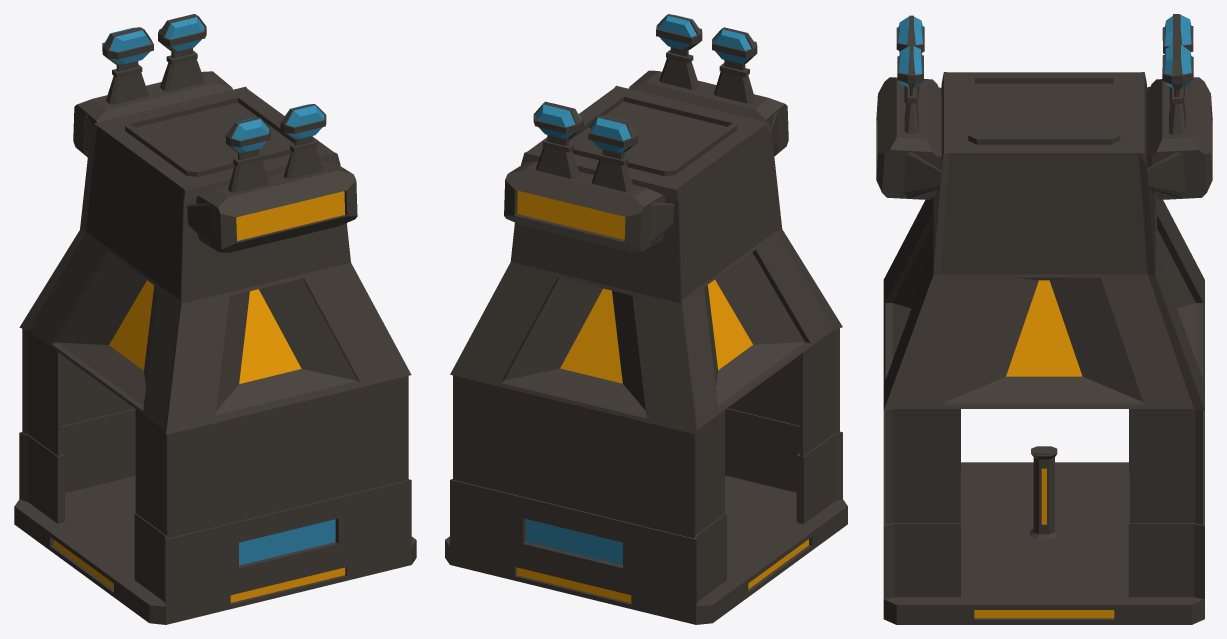
Rendered from DropPod.fbx.
3 renders of one model, left to right at view 1: azimuth 30°, elevation 25°; view 2: azimuth 150°, elevation 25°; view 3: azimuth 270°, elevation 25°, orthographic. The views are drawn at different scales.
Visible parts, largest first — view 1: Cube.002; view 2: Cube.002; view 3: Cube.002.
Boxes of the visible parts, x1=… form: Cube.002: x1=14, y1=14, x2=416, y2=624; Cube.002: x1=445, y1=14, x2=847, y2=624; Cube.002: x1=876, y1=14, x2=1212, y2=624.
Size of the model in its own units: 816 by 1378 by 813.
